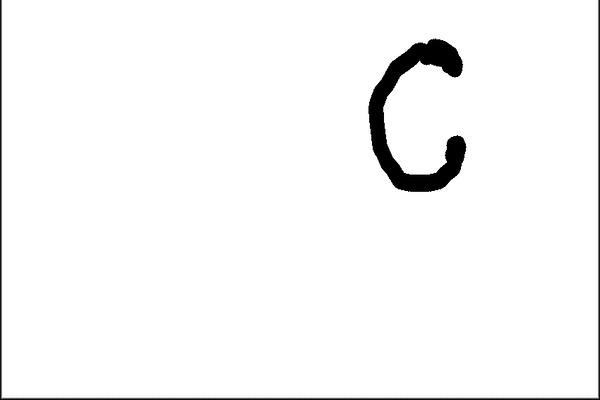C: (362, 34, 476, 194)
